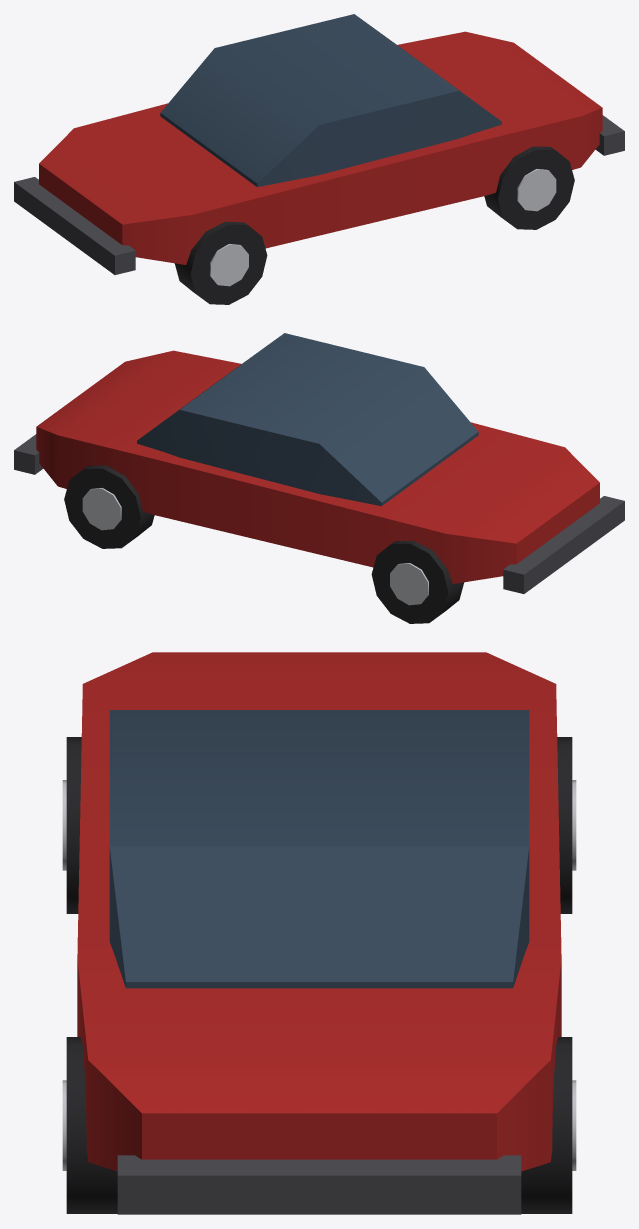
File: car_sedan_red.fbx
3 views of the same model, one above another, from view 1: azimuth 30°, elevation 25°; view 2: azimuth 150°, elevation 25°; view 3: azimuth 270°, elevation 25° (orthographic). The views are drawn at different scales.
Parts seen in each view (by area): view 1: Body, Wheel_FR, Wheel_RR; view 2: Body, Wheel_FL, Wheel_RL; view 3: Body, Wheel_RL, Wheel_RR, Wheel_FL, Wheel_FR.
Part boxes in pixels (x1,y1,x2,y2): Body: (14, 14, 624, 274); Wheel_FR: (174, 221, 267, 304); Wheel_RR: (484, 146, 574, 229); Body: (14, 333, 624, 593); Wheel_FL: (371, 540, 464, 623); Wheel_RL: (64, 465, 154, 548); Body: (77, 652, 561, 1214); Wheel_RL: (521, 1037, 576, 1213); Wheel_RR: (62, 1037, 117, 1213); Wheel_FL: (557, 737, 576, 913); Wheel_FR: (62, 737, 81, 913).
Bounding box in the file's own units: 4.38 × 1.21 × 1.91.
